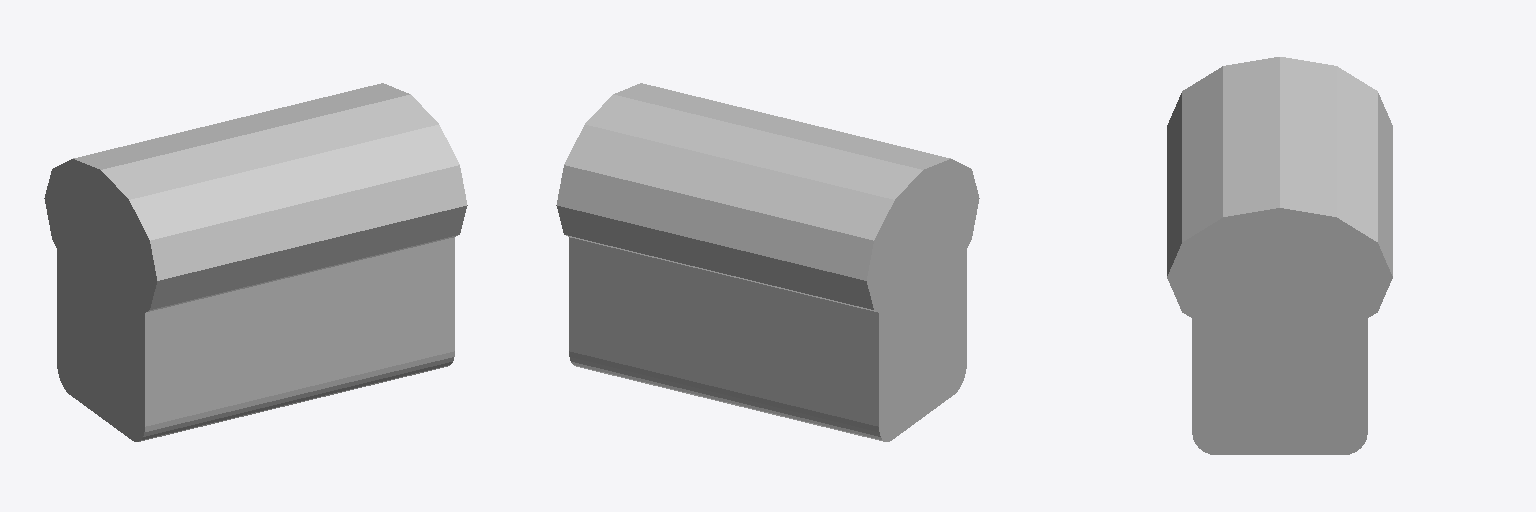
File: loaf.obj
The picture shows the model from 3 angles: view 1: azimuth 30°, elevation 25°; view 2: azimuth 150°, elevation 25°; view 3: azimuth 270°, elevation 25°; orthographic projection.
Visible parts, largest first — view 1: loaf; view 2: loaf; view 3: loaf.
Boxes of the visible parts, x1,y1,x2,y2 form: loaf: [44, 83, 467, 441]; loaf: [556, 83, 979, 441]; loaf: [1167, 57, 1392, 454].
Bounding box in the file's own units: 0.5797 × 0.4423 × 0.3659.